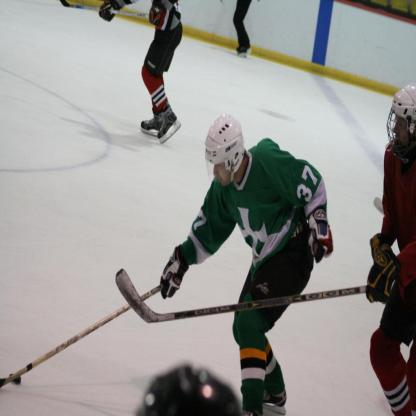Helmet: (134, 360, 246, 416), (204, 112, 248, 184), (385, 82, 416, 158)
